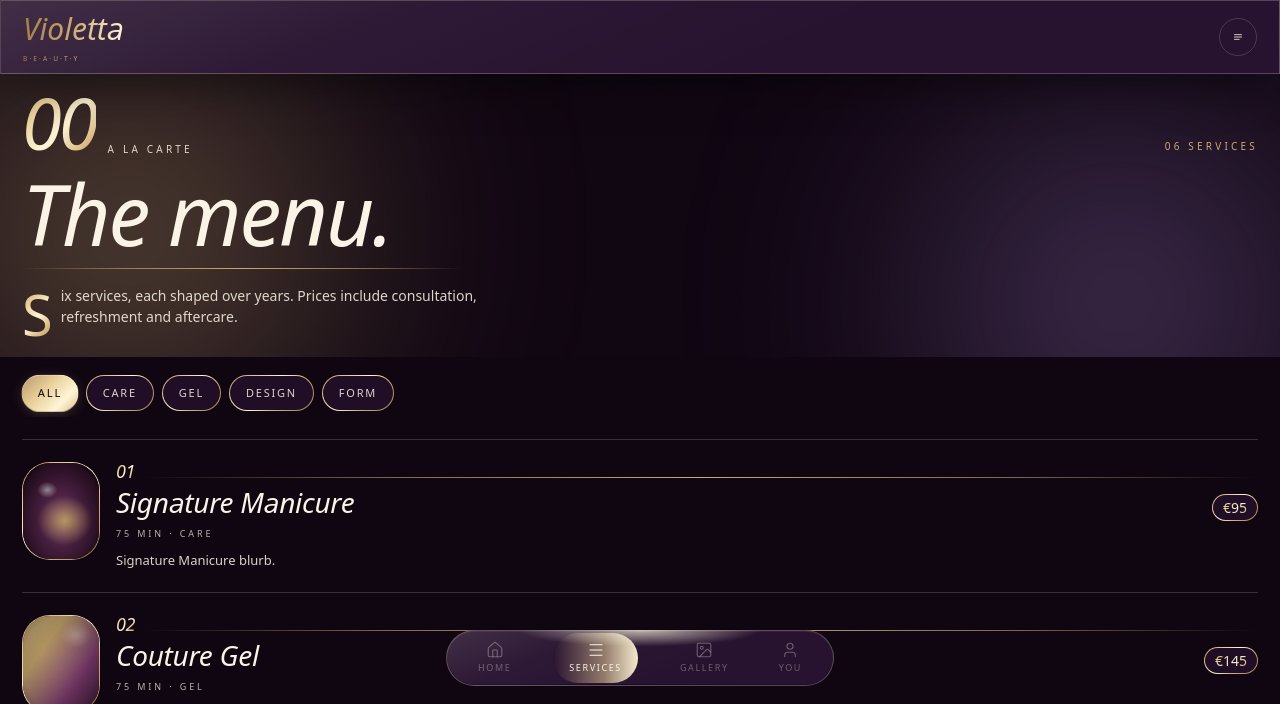
Test case: ServicesCatalogPage › plate numbers reflect the position within the filtered list
The image size is (1280, 704).
Click the tab "Care".
click(120, 393)  # box left=86, top=375, right=154, bottom=411
(page scrolled)
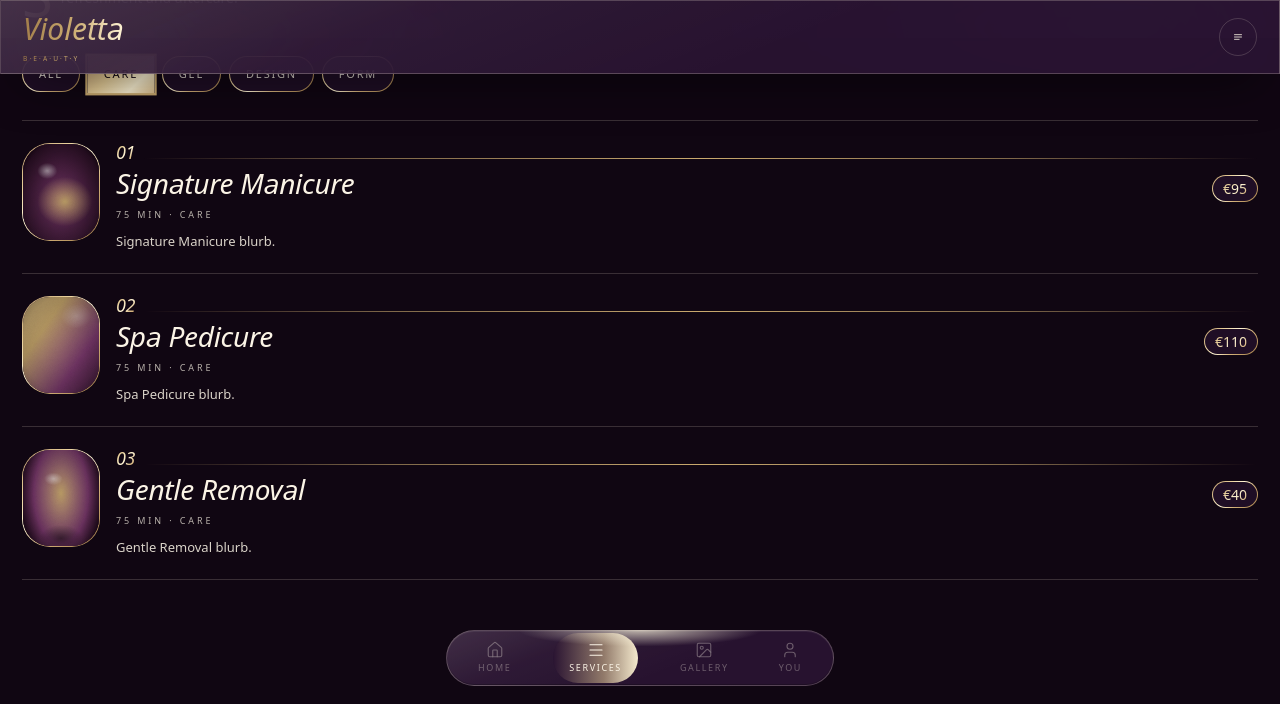
Expected: the text "01" is shown, left=116, top=143, right=135, bottom=161
Expected: the text "03" is shown, left=116, top=449, right=135, bottom=467
